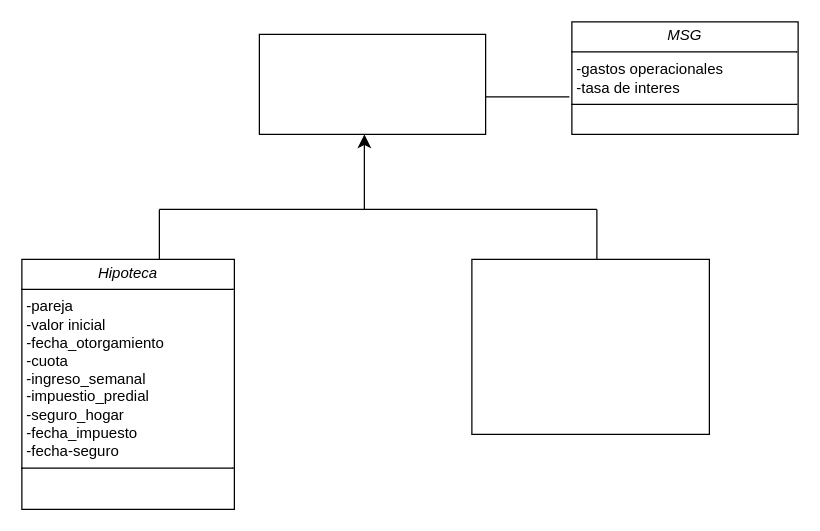
Some shapes in this 820 by 531 pixel diagram are drawn without their labels. The centre of each missing label's shape, as x and y in pixels:
Activo #id: (372,83)
Inversion -entidad -valor -plazo -interes -fecha: (590,346)
